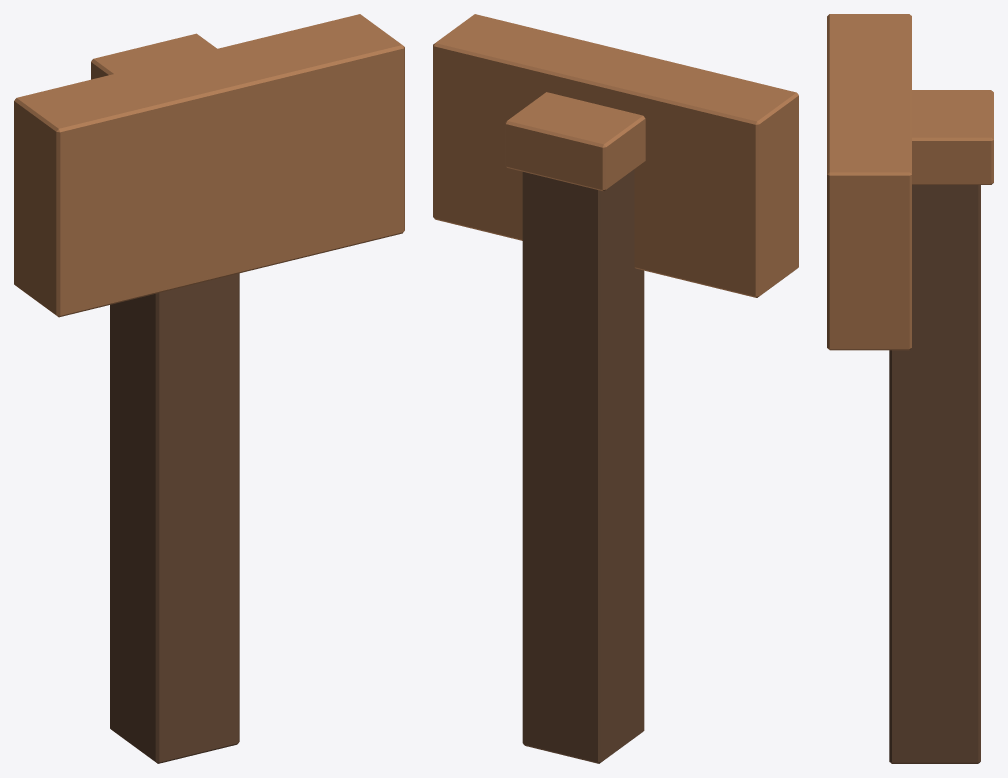
File: wood_sign_small_01.glb
3 renders of one model, left to right at view 1: azimuth 30°, elevation 25°; view 2: azimuth 150°, elevation 25°; view 3: azimuth 270°, elevation 25°, orthographic. The views are drawn at different scales.
Visible parts, largest first — view 1: wood_sign_small_01; view 2: wood_sign_small_01; view 3: wood_sign_small_01.
Part boxes in pixels (x1,y1,x2,y2): wood_sign_small_01: [14, 14, 404, 763]; wood_sign_small_01: [433, 14, 798, 763]; wood_sign_small_01: [827, 14, 993, 763].
Size of the model in its own units: 0.58 by 1.1 by 0.255.
